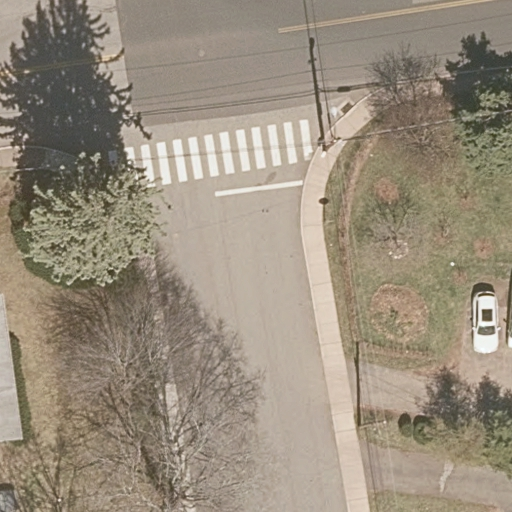DT: (358, 409, 387, 432), (317, 133, 342, 157)
